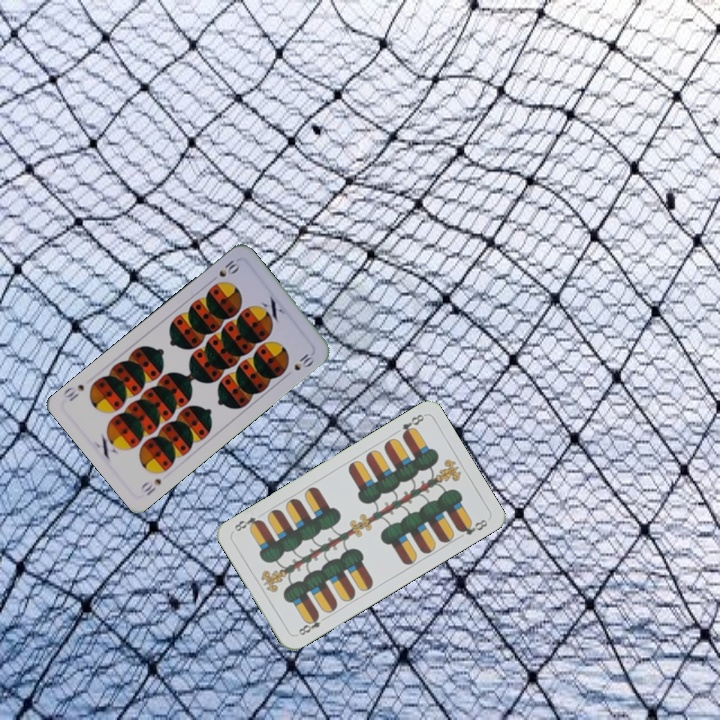E8: (292, 610, 329, 638), (398, 410, 427, 440)
S10: (215, 254, 243, 280), (136, 474, 164, 498)
